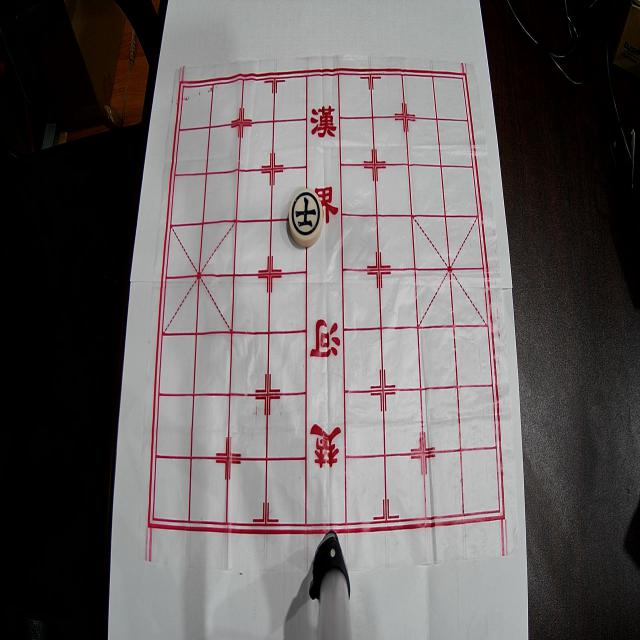black-guard: (289, 189, 323, 247)
